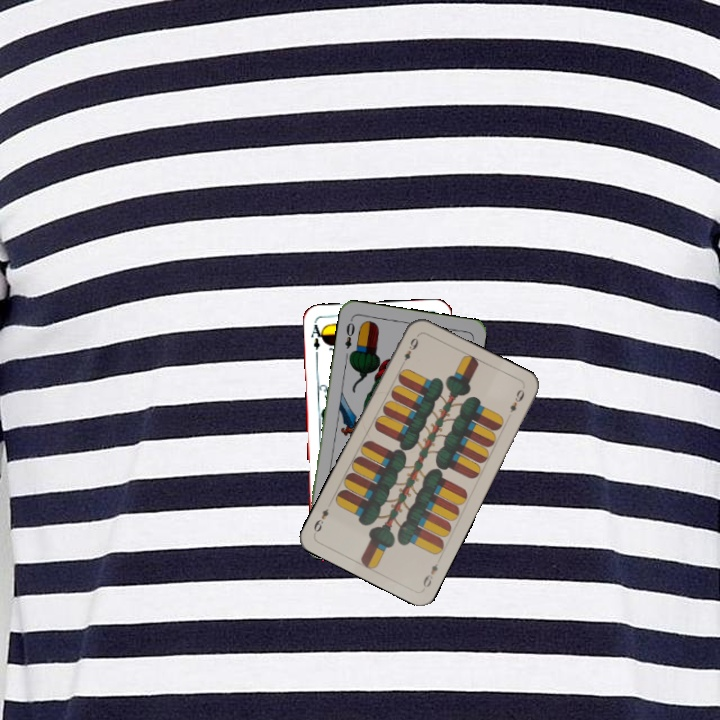E9: (419, 559, 441, 590), (400, 333, 421, 363)
EA: (307, 318, 327, 358)
EO: (340, 318, 357, 351)
